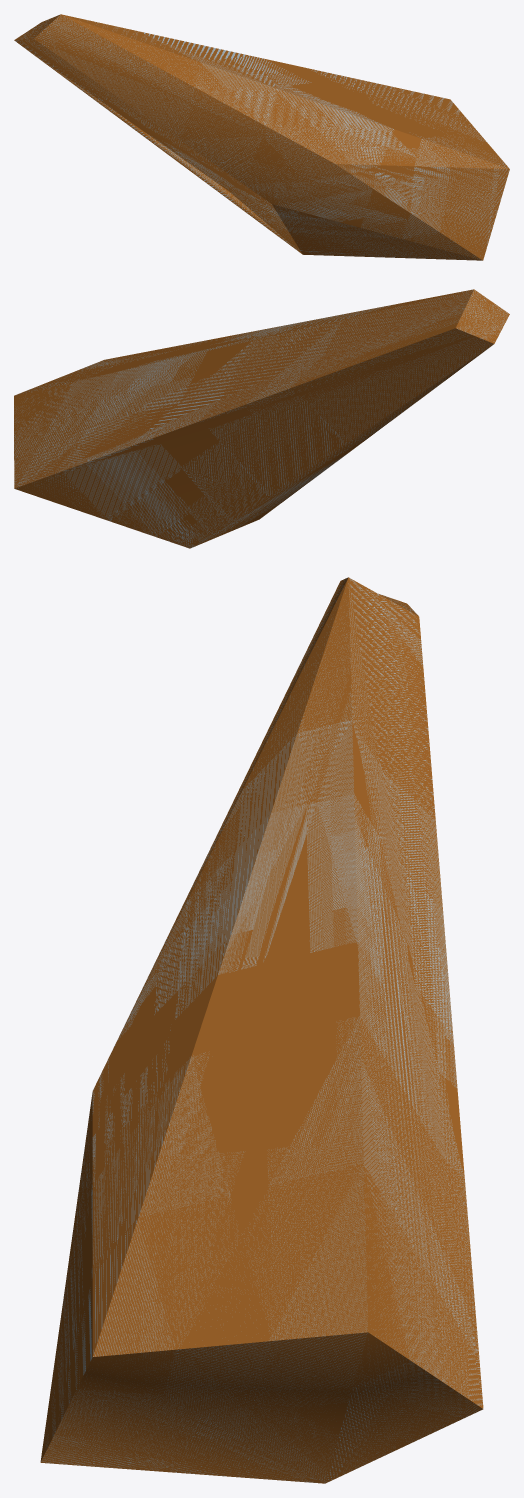
Rendered from Rock_Large_Sharp_Dirt_02.fbx.
The picture shows the model from 3 angles, top to bottom: view 1: azimuth 30°, elevation 25°; view 2: azimuth 150°, elevation 25°; view 3: azimuth 270°, elevation 25°; orthographic projection. The views are drawn at different scales.
Parts seen in each view (by area): view 1: Model; view 2: Model; view 3: Model.
Boxes of the visible parts, bbox=[...] form: Model: bbox=[14, 14, 509, 260]; Model: bbox=[14, 289, 509, 548]; Model: bbox=[40, 577, 483, 1483].
Bounding box in the file's own units: 783 × 481 × 352.
